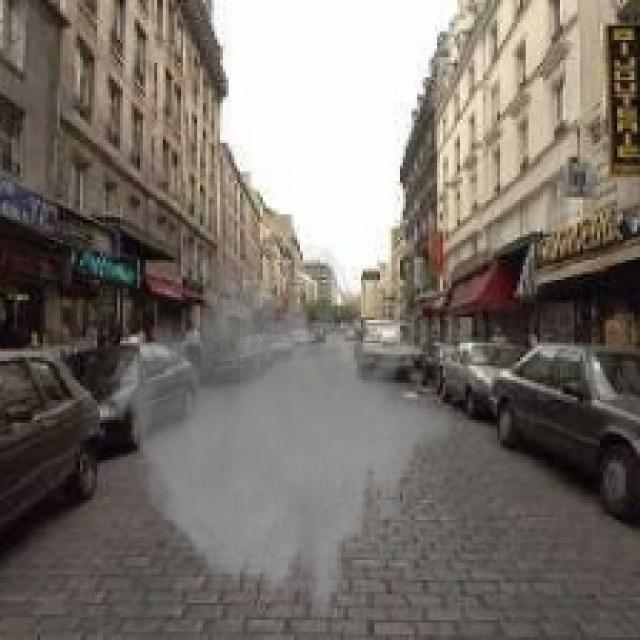Smoke: (108, 239, 454, 632)
